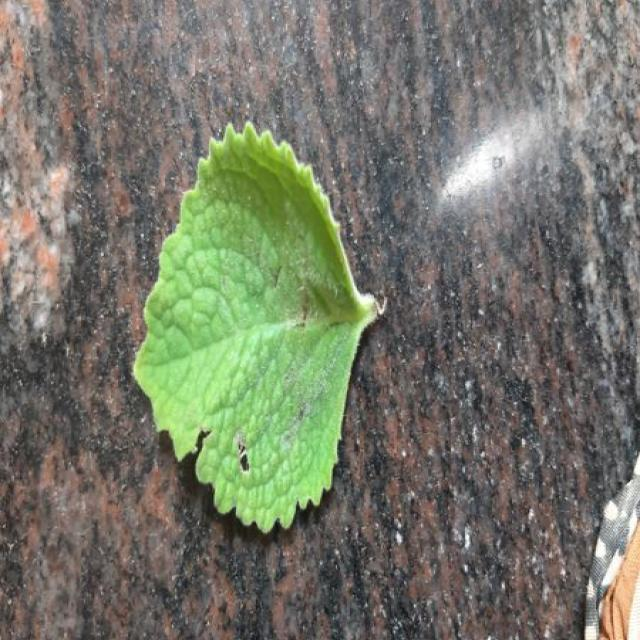doddpathre: (133, 124, 380, 531)
